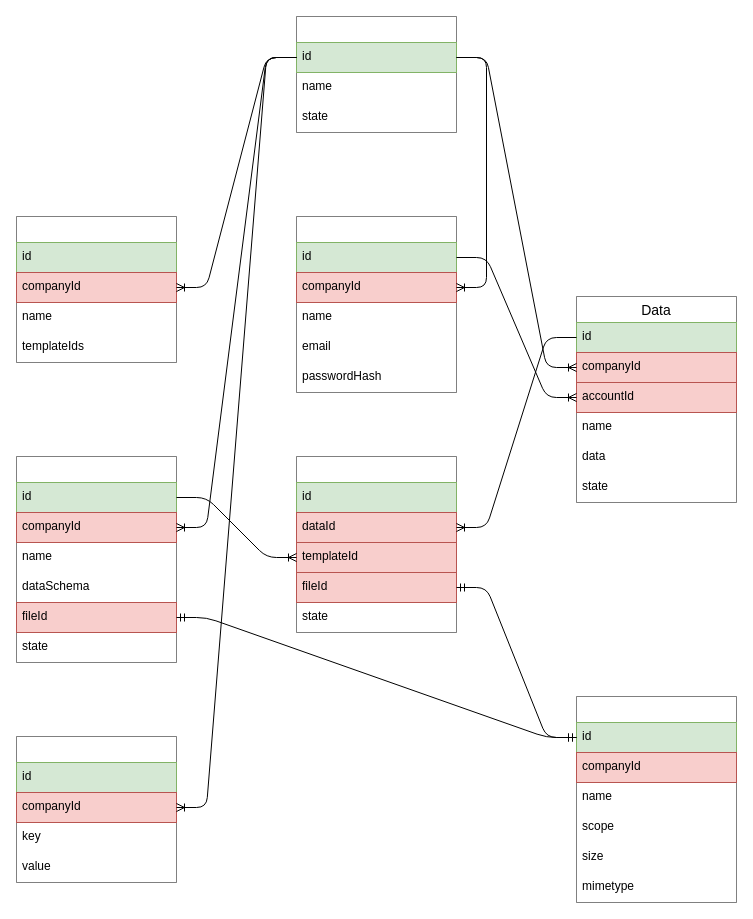
The diagram is 753 pixels wide and 919 high, and some of its shapes have lost their labels. Each missing label, with the box of its shape:
Accounts: (296, 216, 456, 392)
Companies: (296, 16, 456, 132)
Documents: (296, 456, 456, 632)
Files: (576, 696, 736, 902)
Suggestions: (16, 736, 176, 882)
Templates: (16, 456, 176, 662)
TemplateSets: (16, 216, 176, 362)
